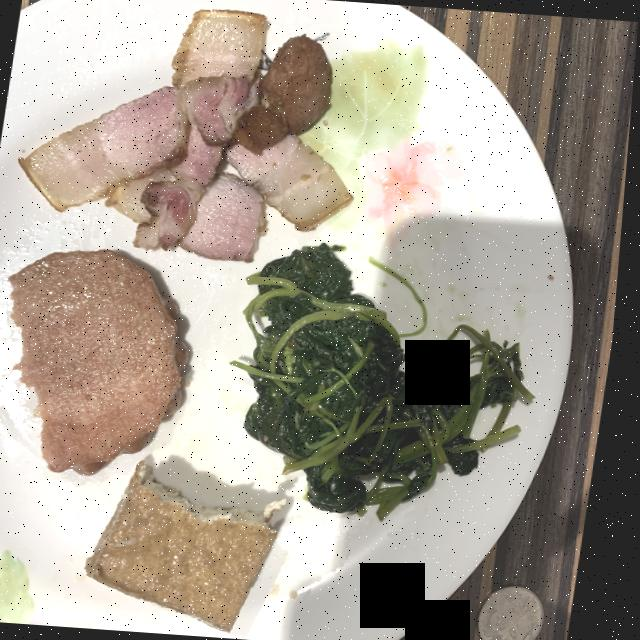Spam: (13, 249, 188, 472)
coin: (488, 585, 554, 640)
egg tofu: (94, 461, 294, 631)
grilled pork: (22, 9, 356, 259)
sweet potato leaves: (238, 244, 541, 520)
